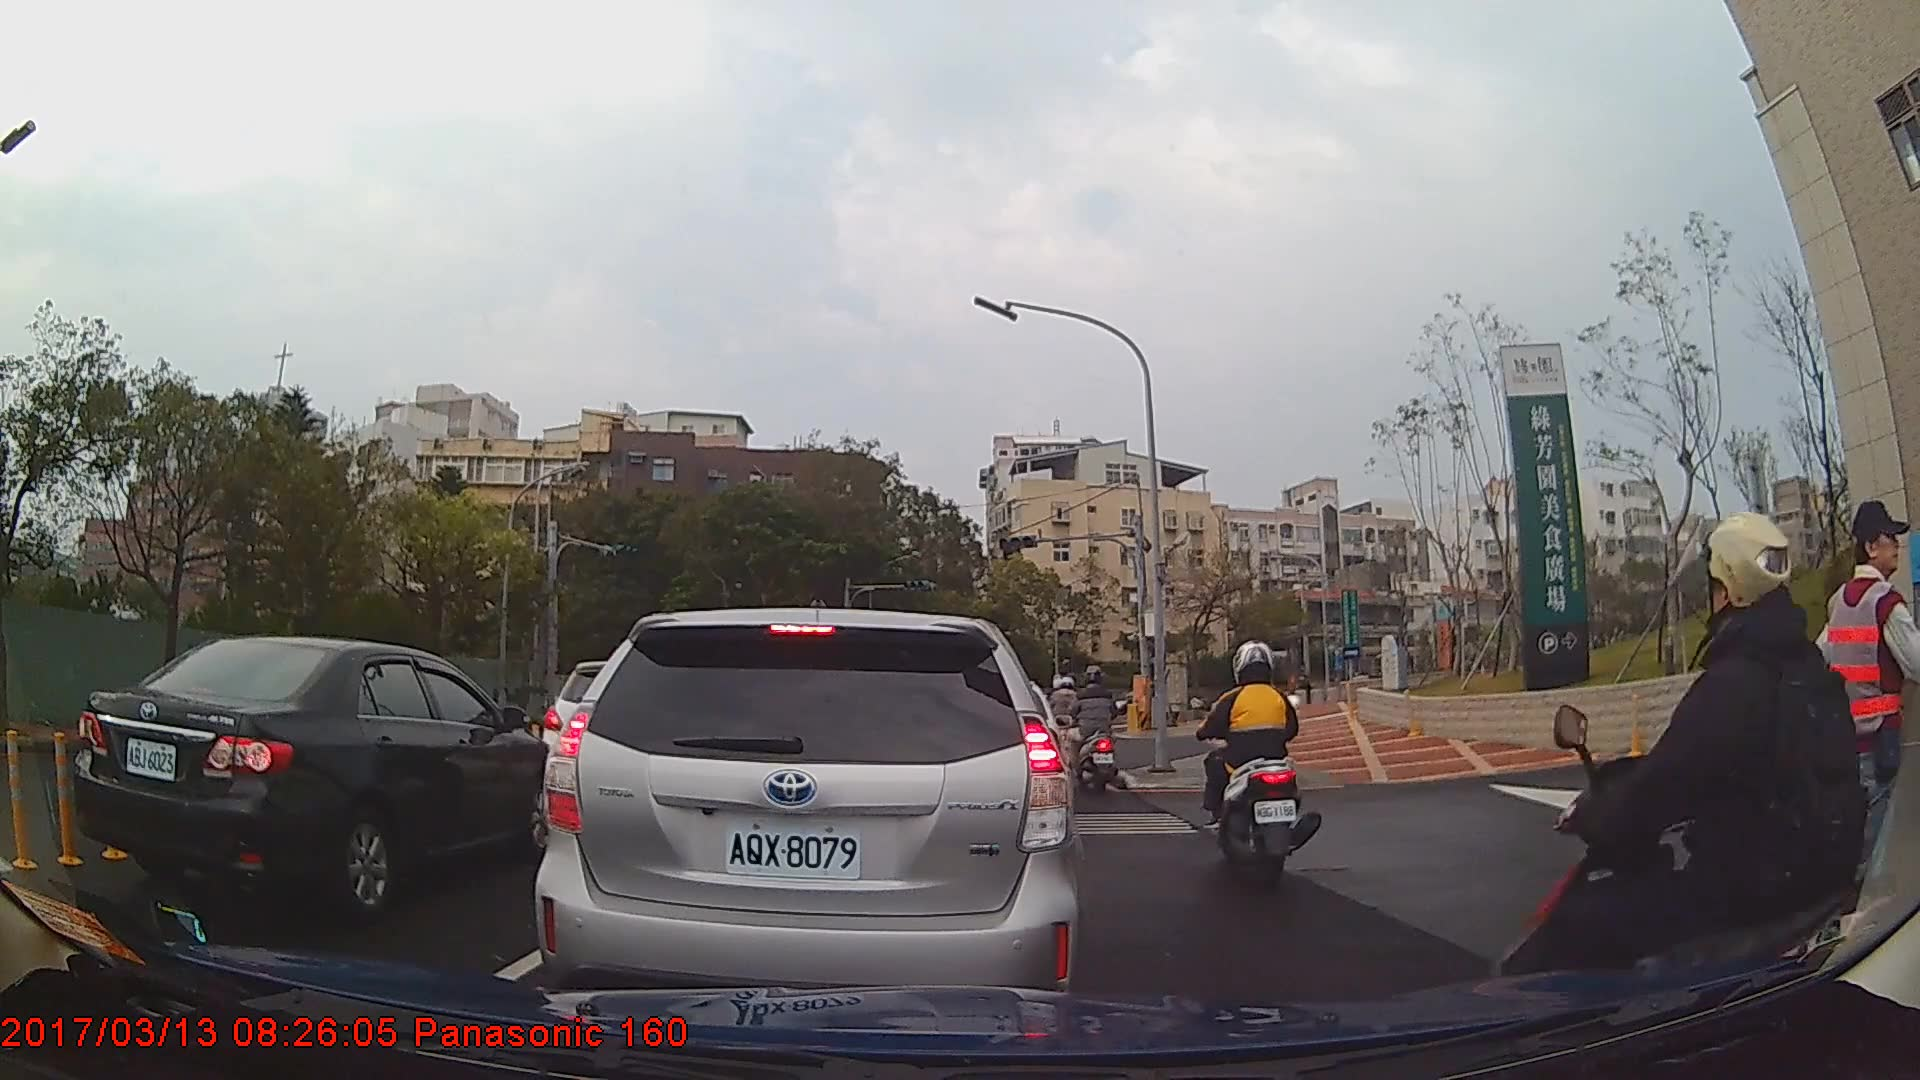rider: (1479, 508, 1920, 1080), (1201, 638, 1323, 901), (1069, 669, 1124, 795)
vehicle: (535, 605, 1083, 1024), (76, 635, 577, 925)
